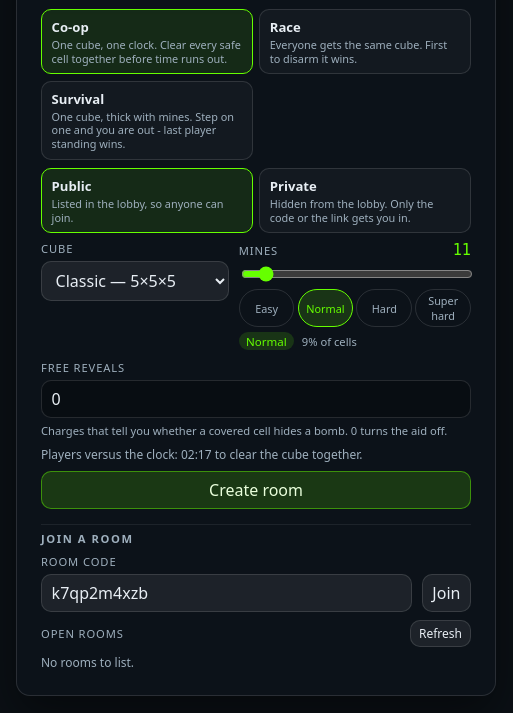
WelcomeScreen › a code from the URL is pre-filled and uppercased
(page scrolled)
Expected: the text "No rooms to list." is shown, [41,654,134,671]
Replace the text in the field with test id "welcome-code" with " ab 12 " at point(227, 593), box [41,574,412,612]
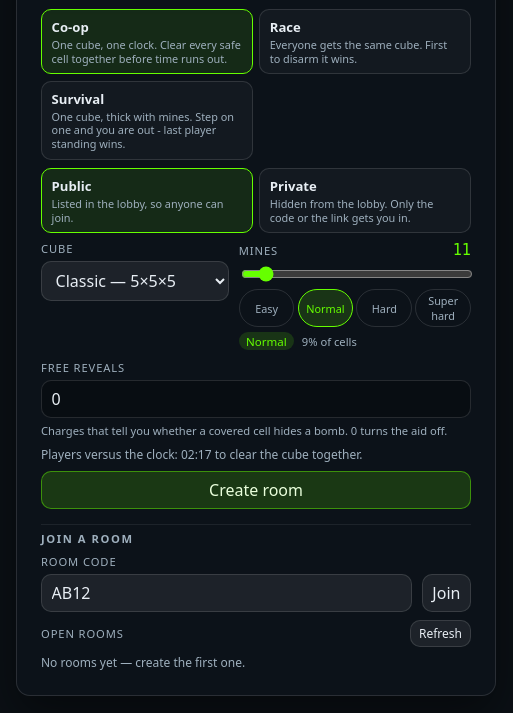
Result: the field with test id "welcome-code" holds "AB12" at [41,574,412,612]
